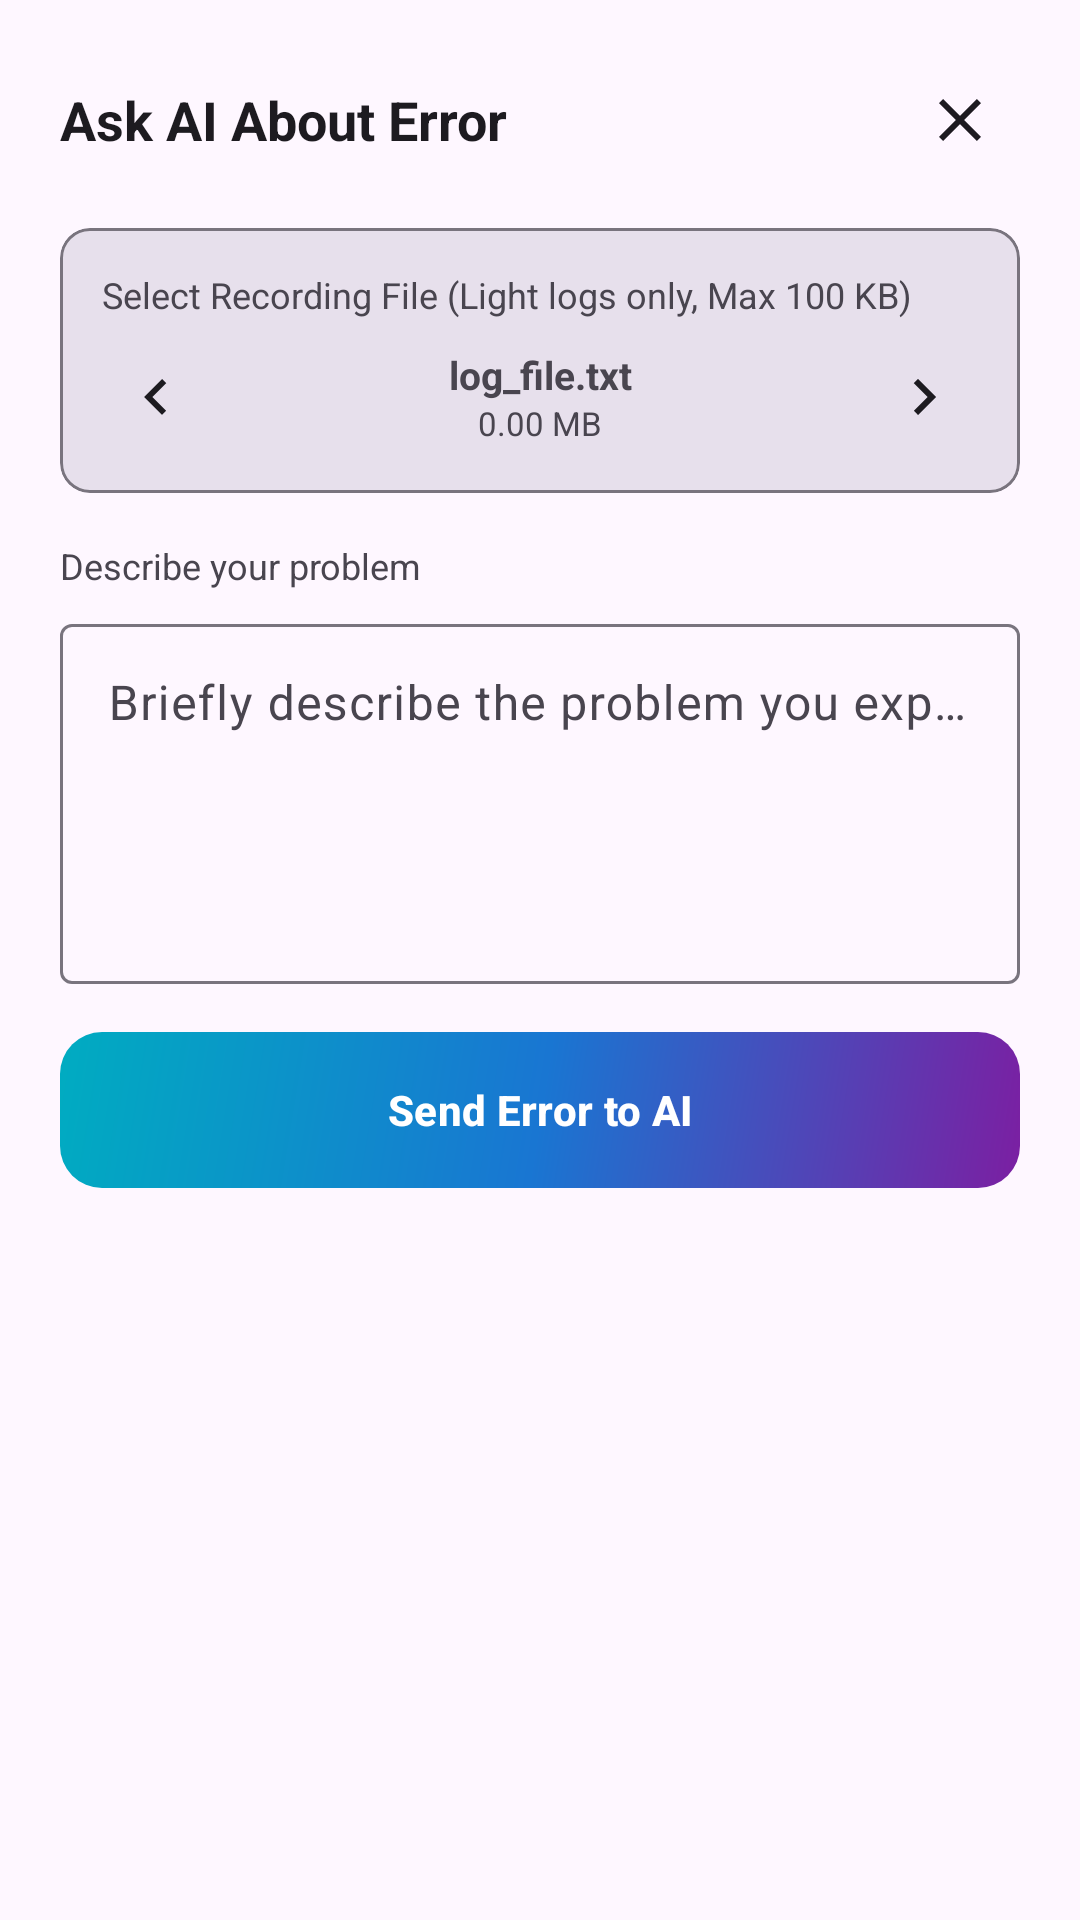

Named icons in this screenshot (1080px x 1920px) and their bounding boxes, (x1,y1,x2,y2):
Close: (939,99,981,141)
Sonraki: (914,379,936,415)
Önceki: (144,379,166,415)
